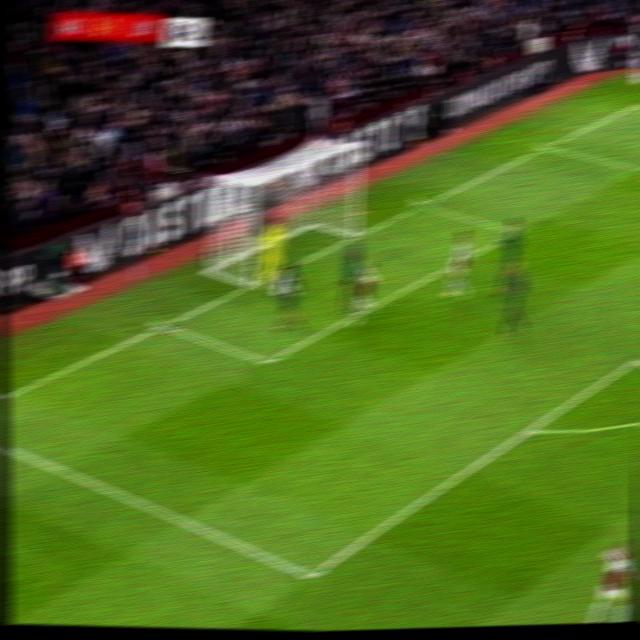bigarea_bottom_inner: (292, 556, 326, 595)
bigarea_top_outter: (534, 133, 559, 157)
bottom_arc_area_intersection: (513, 411, 546, 447)
smallarea_bottom_inner: (250, 342, 282, 379)
smallarea_bottom_outter: (149, 309, 178, 339)
smallarea_top_outter: (410, 191, 435, 217)
